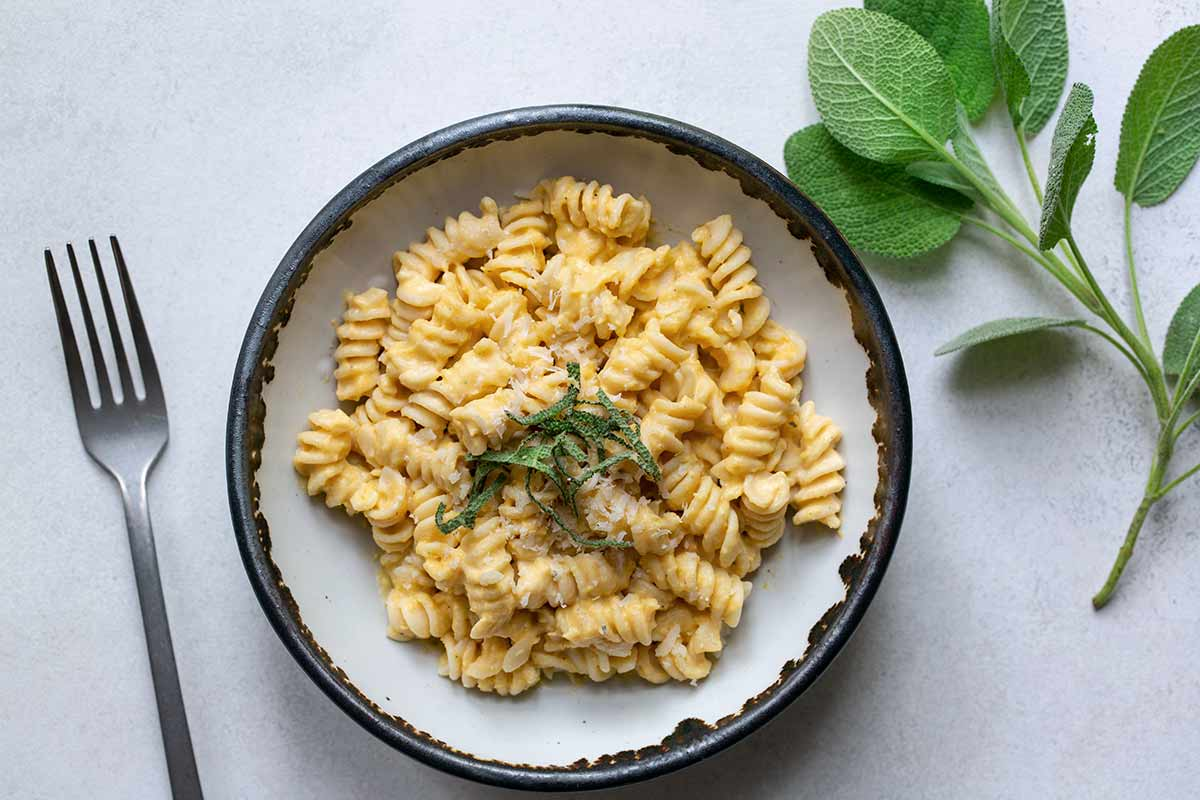plain spaghetti: (320, 189, 826, 680)
